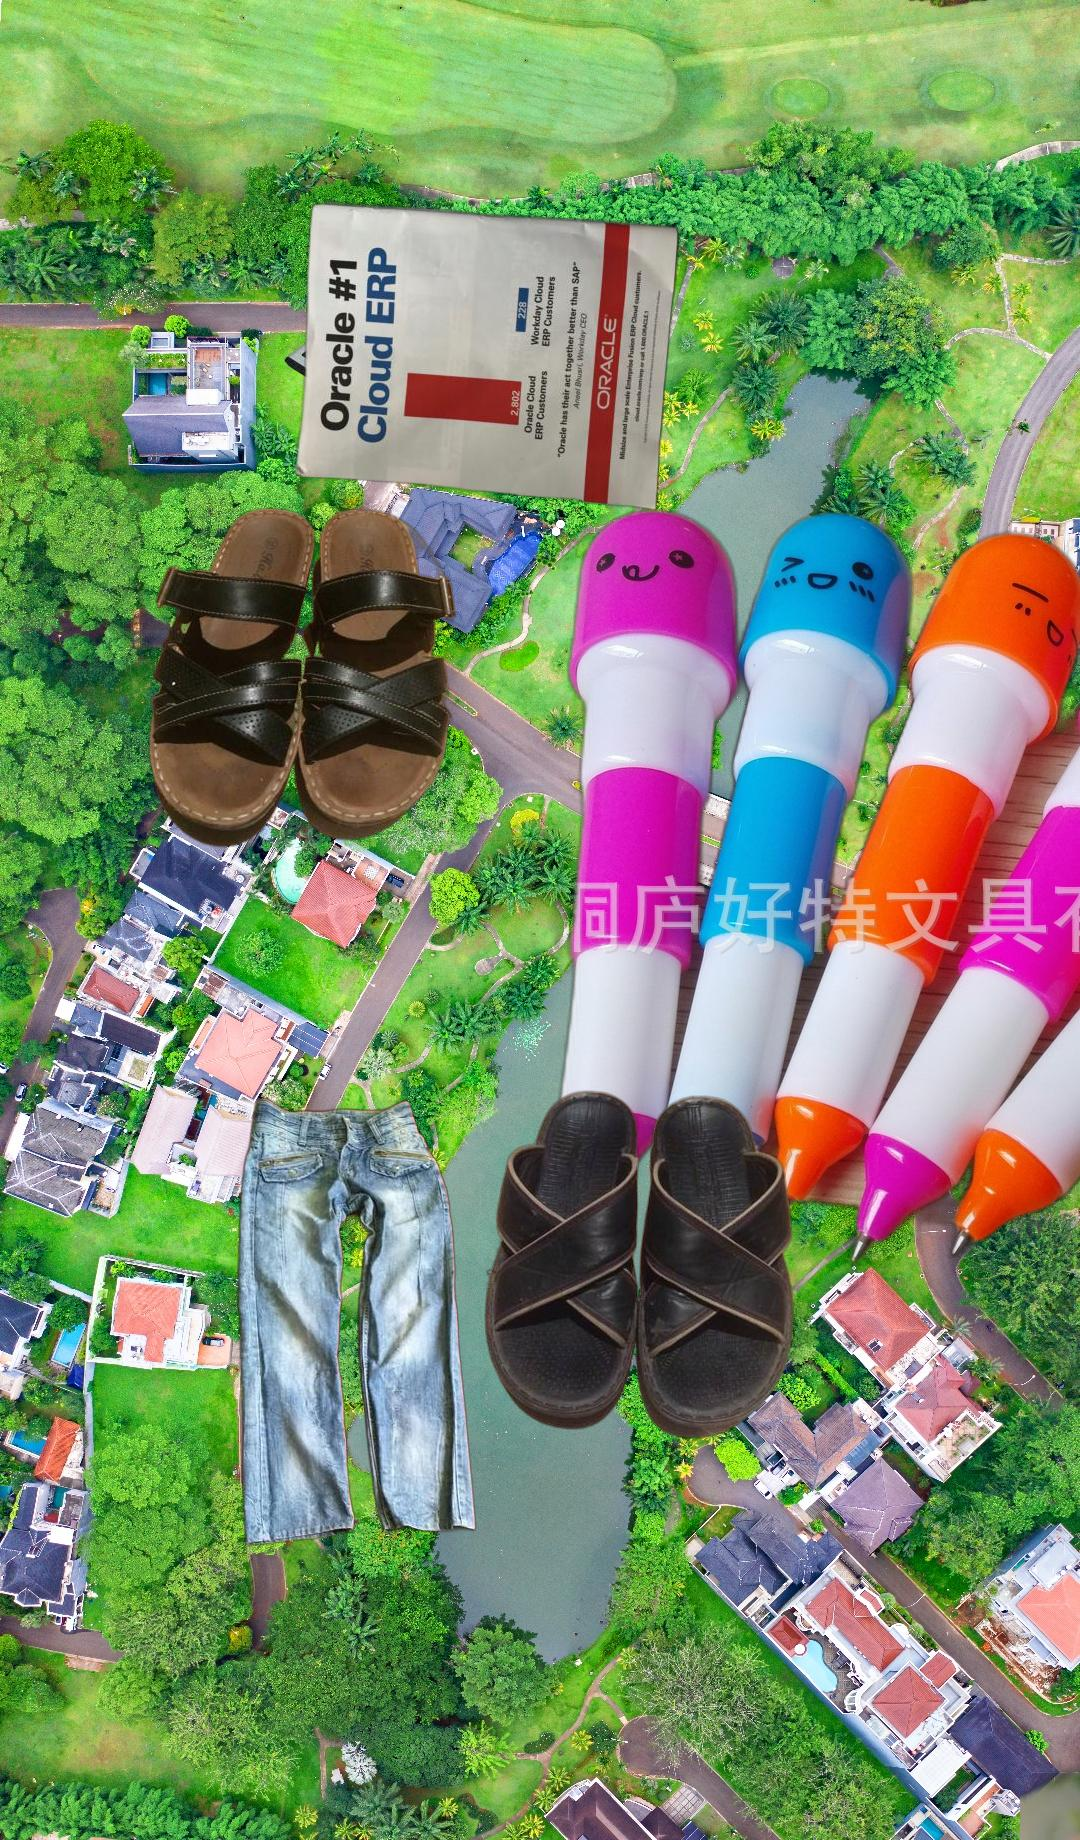battery: (283, 261, 508, 426)
biological: (1020, 1495, 1080, 1840)
clothes: (235, 1093, 480, 1549)
paper: (291, 198, 684, 514)
paper-bag: (64, 1835, 303, 1840)
penholder: (543, 501, 1080, 1272)
shoes: (481, 1087, 797, 1443), (145, 503, 464, 852)
